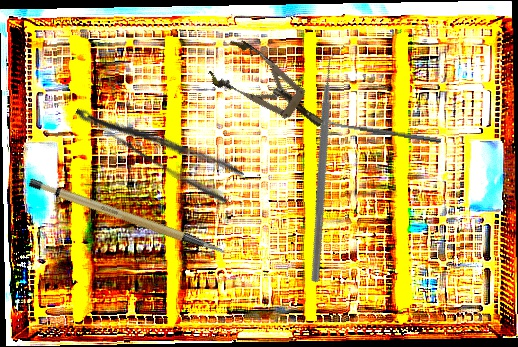Chopper: (220, 43, 439, 285)
Dressing Forceps: (73, 81, 245, 208)
Scalpel Handle: (26, 153, 227, 285)
Speculum: (204, 34, 336, 147)
Surgical Spoon: (323, 119, 442, 144)
